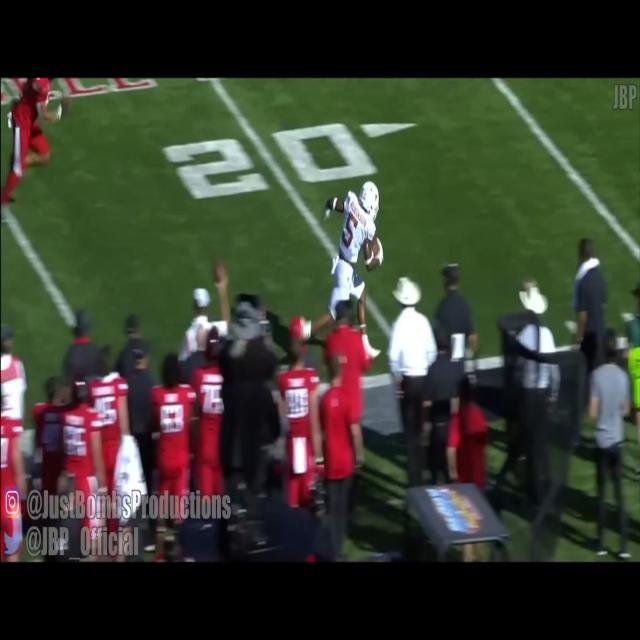football: (213, 260, 226, 289), (370, 237, 381, 262)
players: (292, 182, 384, 356), (2, 79, 61, 208)
